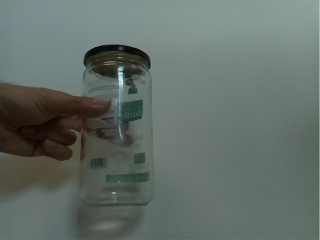pote cristal: (77, 43, 157, 212)
